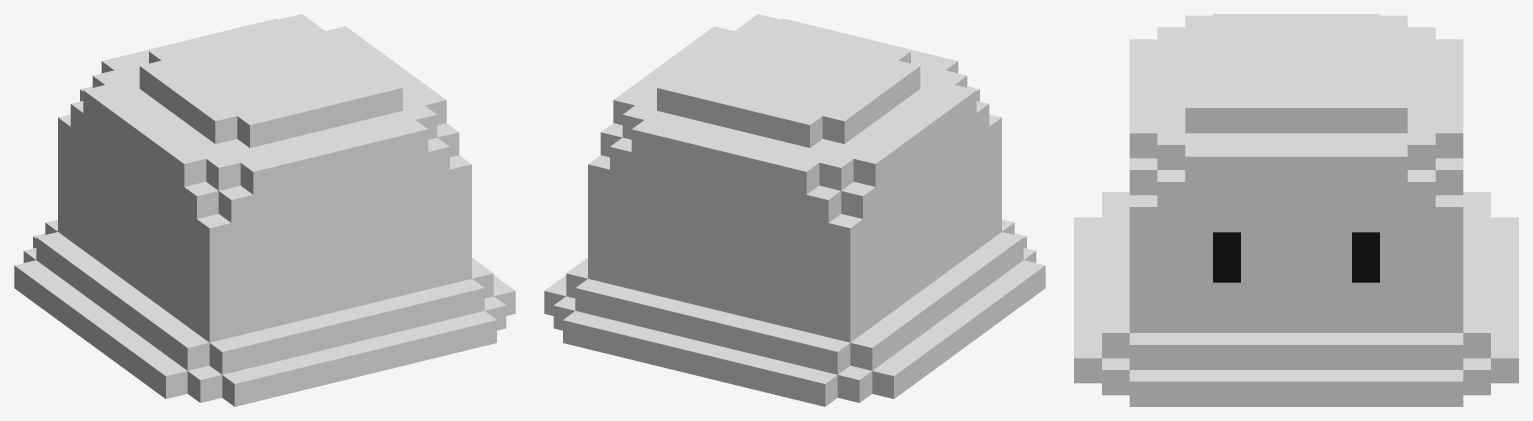
File: slime1012.obj
3 renders of one model, left to right at view 1: azimuth 30°, elevation 25°; view 2: azimuth 150°, elevation 25°; view 3: azimuth 270°, elevation 25°, orthographic. The views are drawn at different scales.
Bounding box in the file's own units: 1.6 × 1 × 1.6.
1 material, 1 textured.
